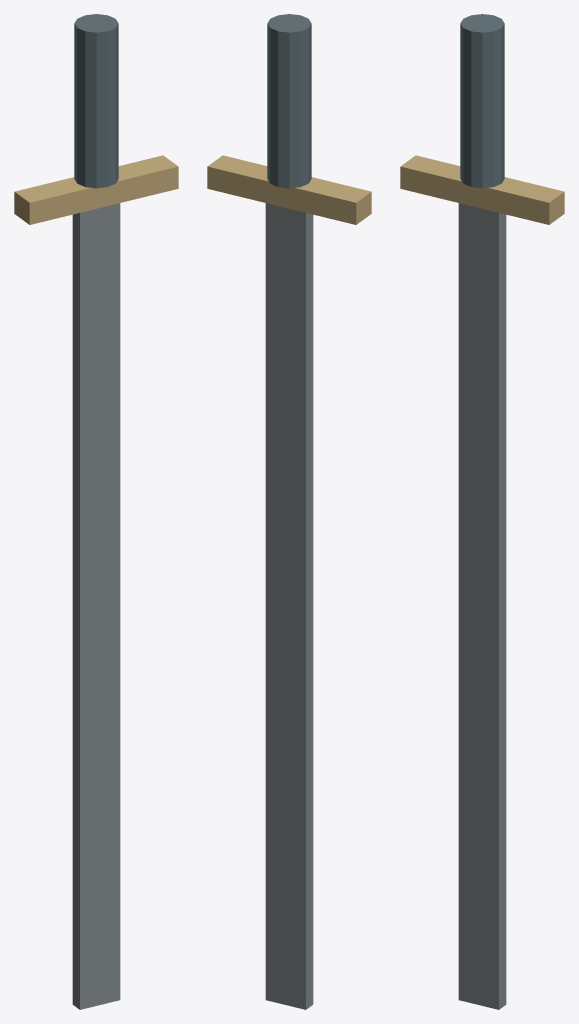
The model's file is EQ-SWORD.glb.
3 renders of one model, left to right at view 1: azimuth 30°, elevation 25°; view 2: azimuth 150°, elevation 25°; view 3: azimuth 330°, elevation 25°, orthographic.
Visible parts, largest first — view 1: blade, grip, guard; view 2: blade, grip, guard; view 3: blade, grip, guard.
Boxes of the visible parts, x1,y1,x2,y2 form: blade: (72,203,120,1009); grip: (74,14,118,188); guard: (14,155,178,224); blade: (265,203,313,1009); grip: (267,14,311,188); guard: (207,155,371,224); blade: (458,203,506,1009); grip: (460,14,504,188); guard: (400,155,564,224).
Size of the model in its own units: 0.14 by 0.88 by 0.036.
